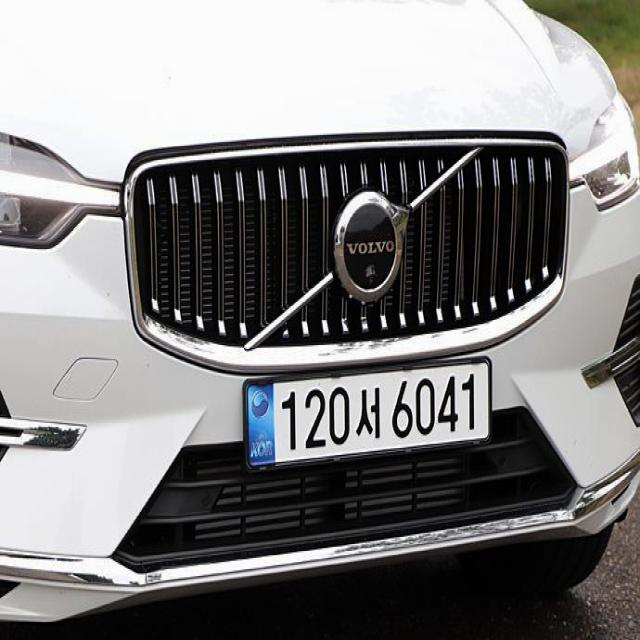illegal_plate: (244, 356, 493, 469)
